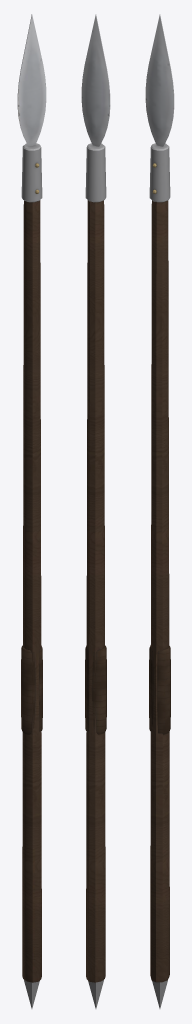
File: shortspear.glb
3 renders of one model, left to right at view 1: azimuth 30°, elevation 25°; view 2: azimuth 150°, elevation 25°; view 3: azimuth 330°, elevation 25°, orthographic.
Visible parts, largest first — view 1: SM_V_shortspear; view 2: SM_V_shortspear; view 3: SM_V_shortspear.
Part boxes in pixels (x1,y1,x2,y2): SM_V_shortspear: (17,14,46,1008); SM_V_shortspear: (81,14,110,1008); SM_V_shortspear: (145,14,174,1008).
Bounding box in the file's own units: 0.0566 × 1.89 × 0.0406.
1 material, 1 textured.
